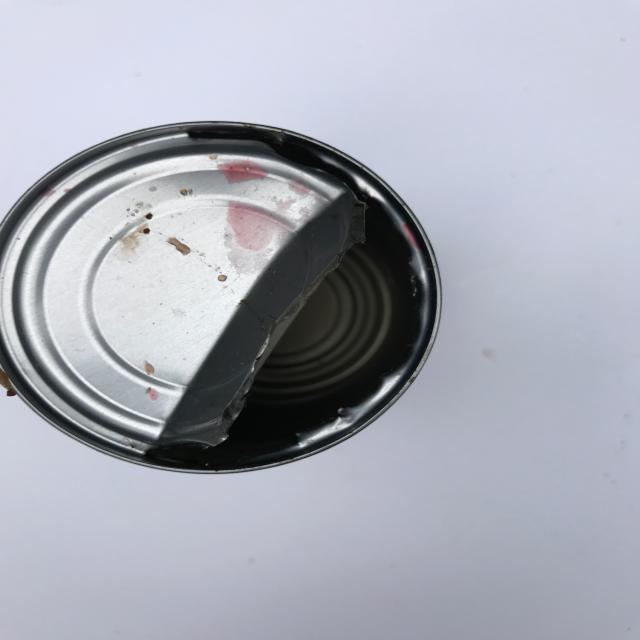metal: (0, 120, 442, 474)
